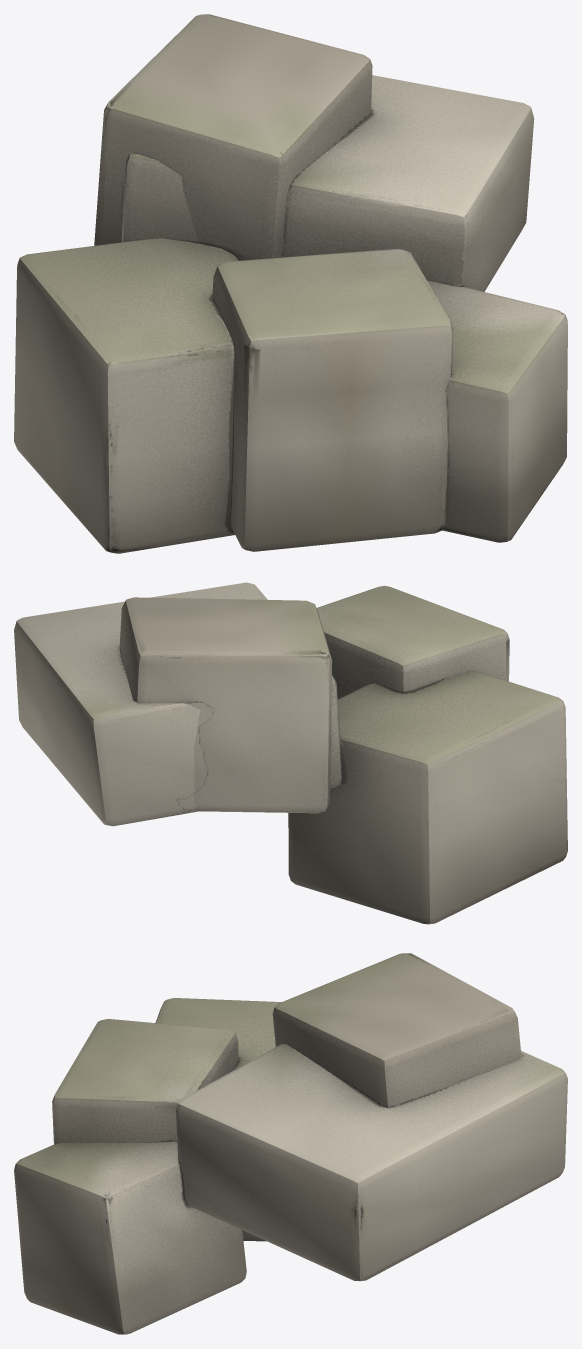
File: cenario_blocos_cal_b.glb
3 renders of one model, top to bottom at view 1: azimuth 30°, elevation 25°; view 2: azimuth 150°, elevation 25°; view 3: azimuth 270°, elevation 25°, orthographic. The views are drawn at different scales.
Parts seen in each view (by area): view 1: cenario_blocos_cal_b; view 2: cenario_blocos_cal_b; view 3: cenario_blocos_cal_b.
Part boxes in pixels (box(x1,y1,x2,y2)): cenario_blocos_cal_b: box(14, 14, 567, 553); cenario_blocos_cal_b: box(14, 582, 567, 924); cenario_blocos_cal_b: box(14, 953, 567, 1334).
Bounding box in the file's own units: 2.24 × 1.32 × 2.32.
Materials: 1 (1 with a texture image).
